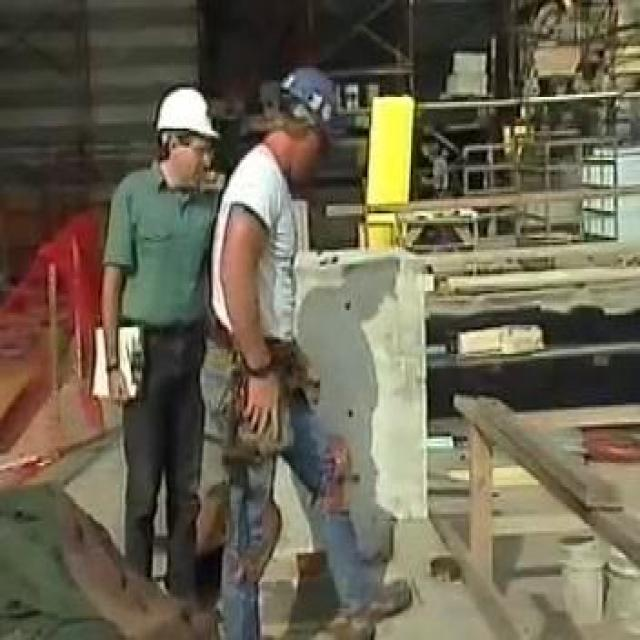Safety-Helmet: (268, 53, 348, 148), (144, 75, 227, 155)
